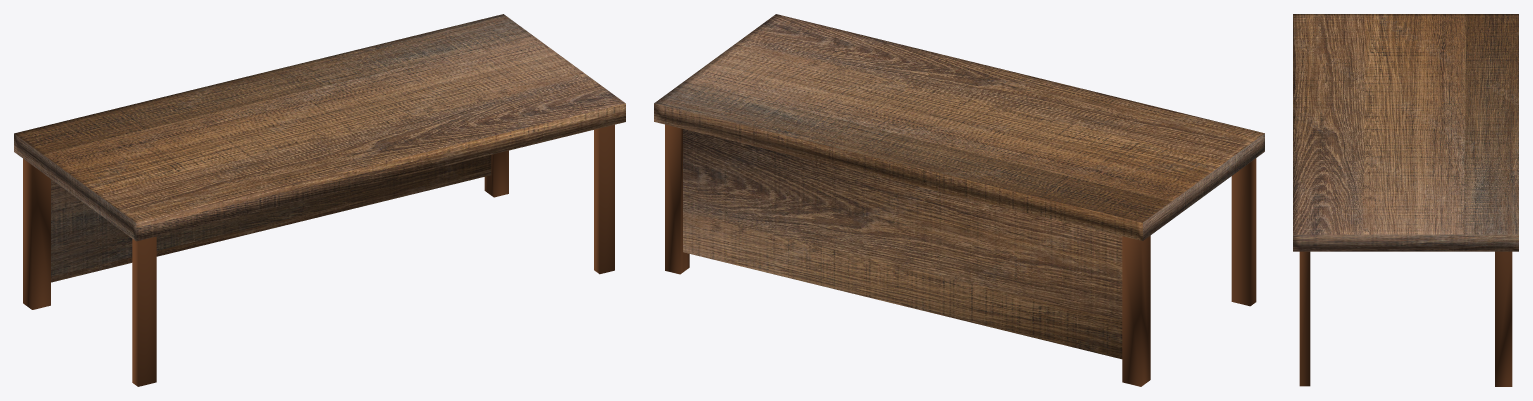
File: desk.fbx
3 renders of one model, left to right at view 1: azimuth 30°, elevation 25°; view 2: azimuth 150°, elevation 25°; view 3: azimuth 270°, elevation 25°, orthographic. The views are drawn at different scales.
Parts seen in each view (by area): view 1: desk; view 2: desk; view 3: desk.
Boxes of the visible parts, box(x1,y1,x2,y2) form: desk: box(14, 14, 625, 386); desk: box(654, 14, 1264, 386); desk: box(1293, 14, 1518, 386).
Size of the model in its own units: 2.53 by 0.8313 by 1.09.
